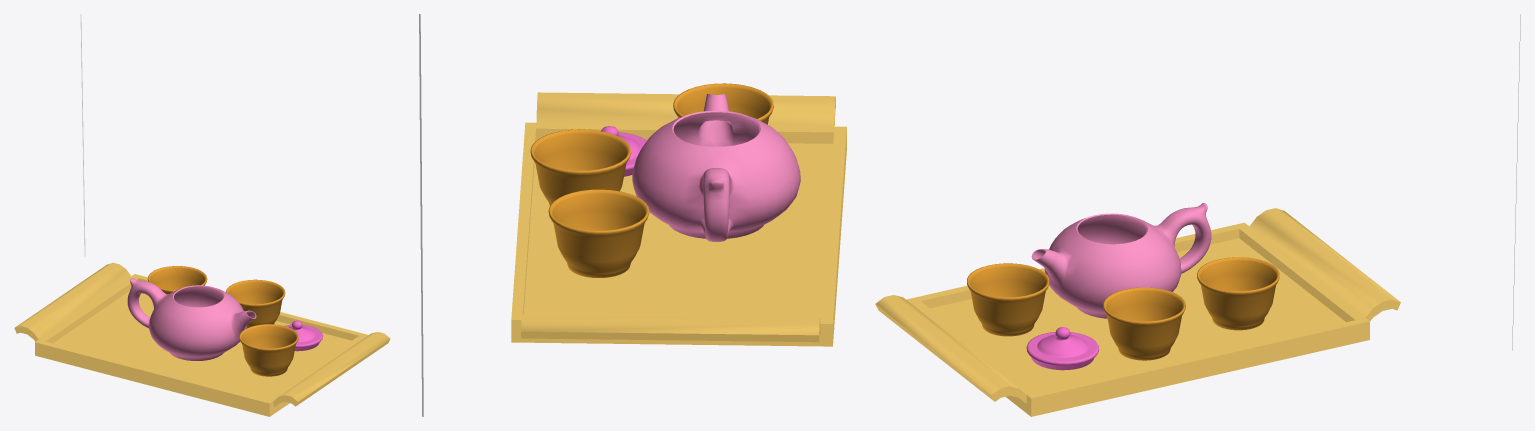
3 views of the same model, side by side, from view 1: azimuth 30°, elevation 25°; view 2: azimuth 150°, elevation 25°; view 3: azimuth 270°, elevation 25° (orthographic). The views are drawn at different scales.
Visible parts, largest first — view 1: Cube, Circle, Circle.002, Circle.003, Circle.004, Circle.001, Плоскость; view 2: Cube, Circle, Circle.004, Circle.003, Circle.002, Плоскость, Circle.001; view 3: Cube, Circle, Circle.003, Circle.004, Circle.002, Circle.001.
Boxes of the visible parts, x1,y1,x2,y2 form: Cube: (14,262,390,416); Circle: (127,278,256,360); Circle.002: (239,324,298,376); Circle.003: (226,279,285,327); Circle.004: (147,266,207,294); Circle.001: (285,320,322,351); Плоскость: (80,14,85,256); Cube: (511,92,846,346); Circle: (632,94,800,241); Circle.004: (548,189,649,277); Circle.003: (530,129,631,205); Circle.002: (673,83,773,124); Плоскость: (419,14,423,416); Circle.001: (601,126,646,176); Cube: (875,208,1400,416); Circle: (1031,203,1211,318); Circle.003: (1103,287,1185,360); Circle.004: (1197,257,1279,330); Circle.002: (967,263,1049,336); Circle.001: (1026,327,1099,370).
Size of the model in its own units: 37.52 by 31.79 by 55.48.
